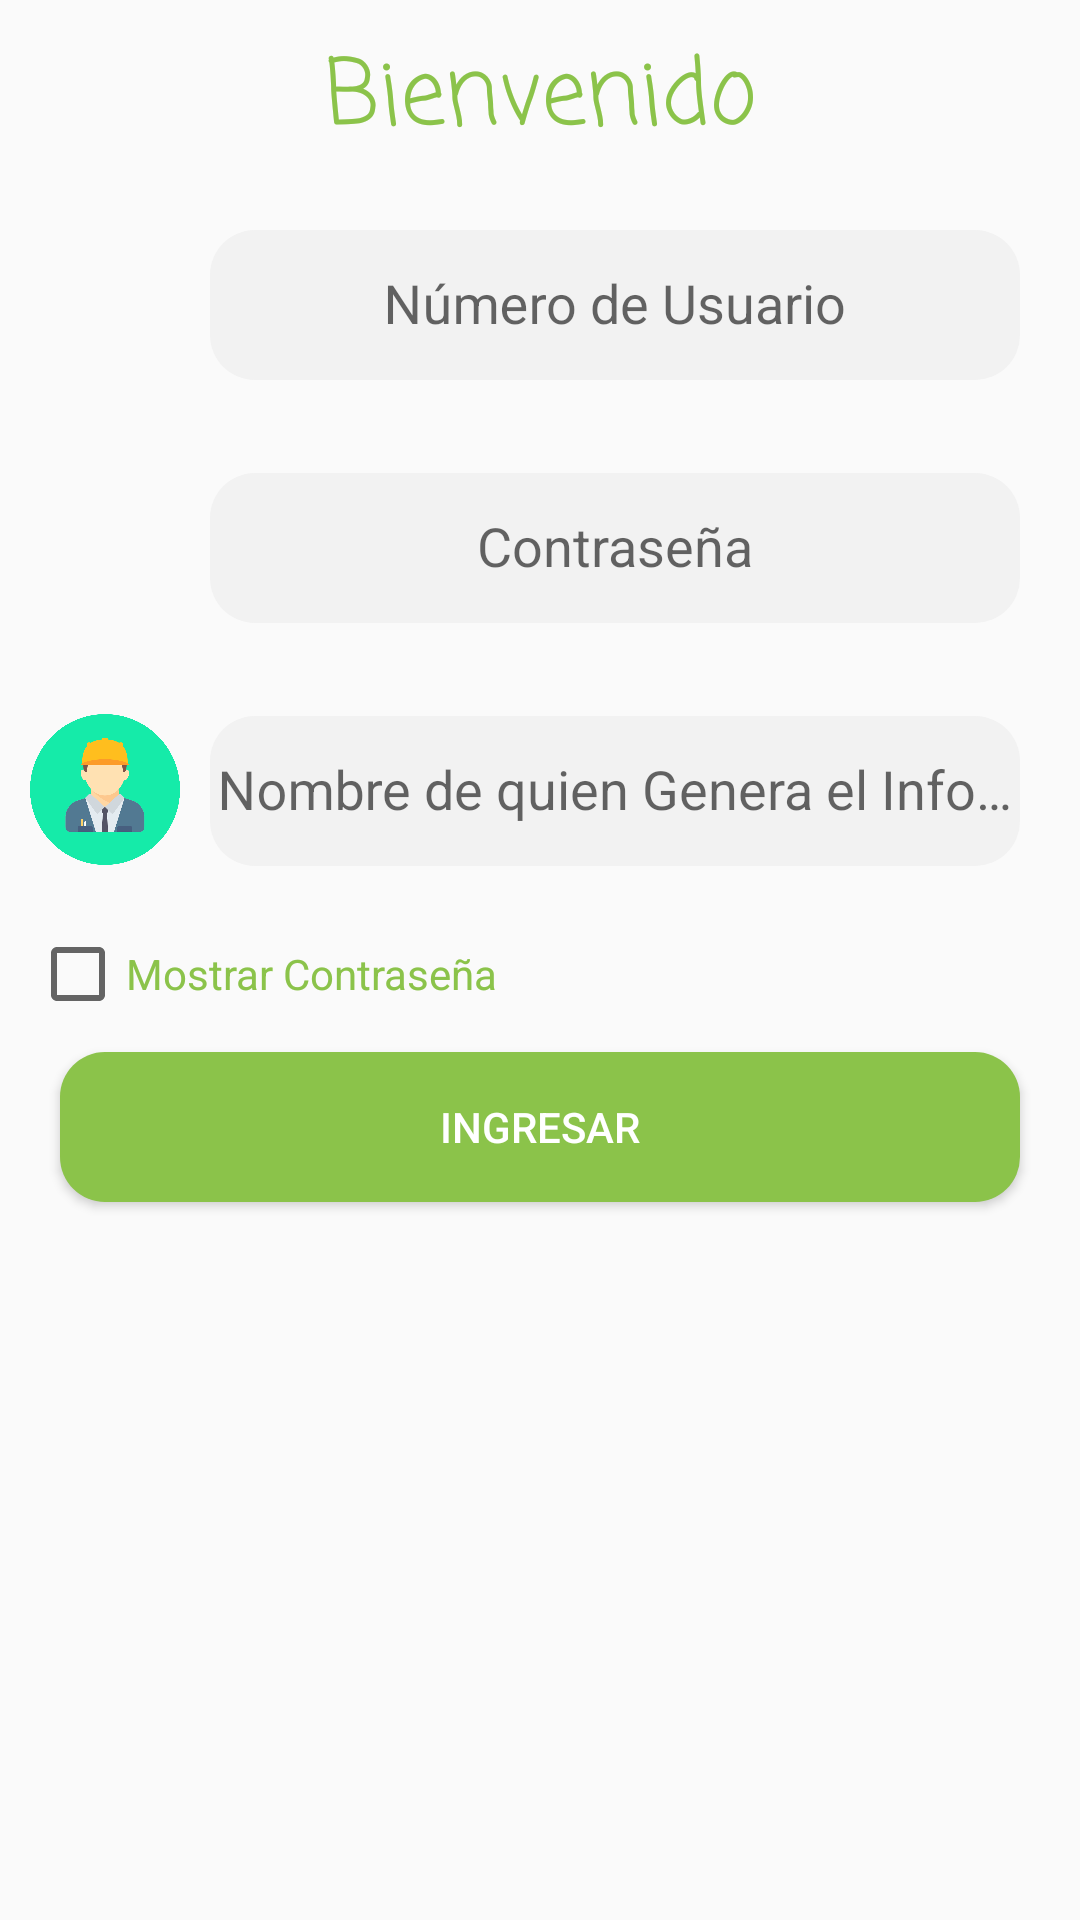

Locate icon controls on the screen. Image size 1080x1920, boxes as (x1, y1, x2, y2).
ingeniero: (30, 714, 180, 865)
